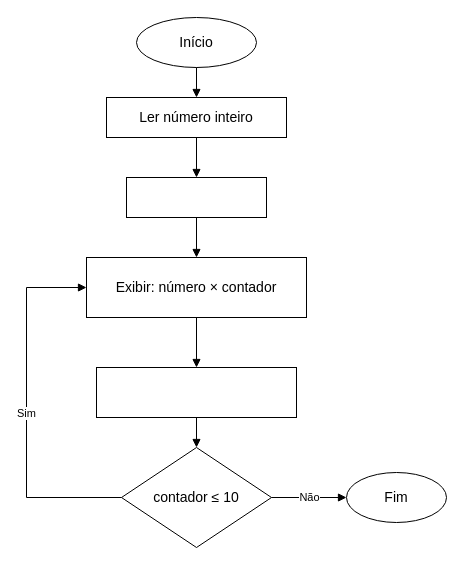
This 464x565 diagram has some shape labels left out. Here are the shapes that lost their labels. From the top down, the centre of each, then its label:
At (196,197): "contador = 1".
At (196,392): "contador = contador + 1".
